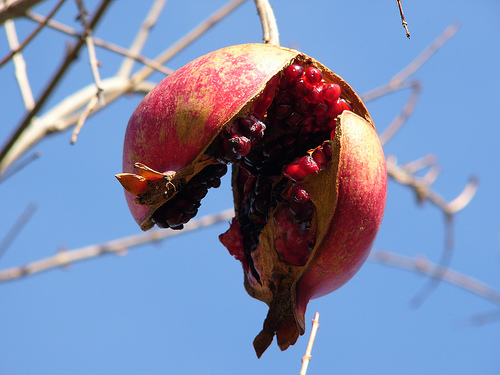pomogranate: (114, 43, 389, 358)
